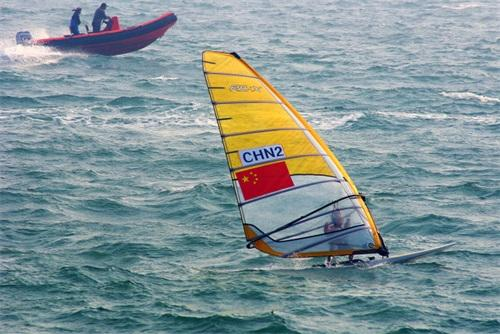Ship: (202, 51, 391, 271), (24, 14, 178, 57)
